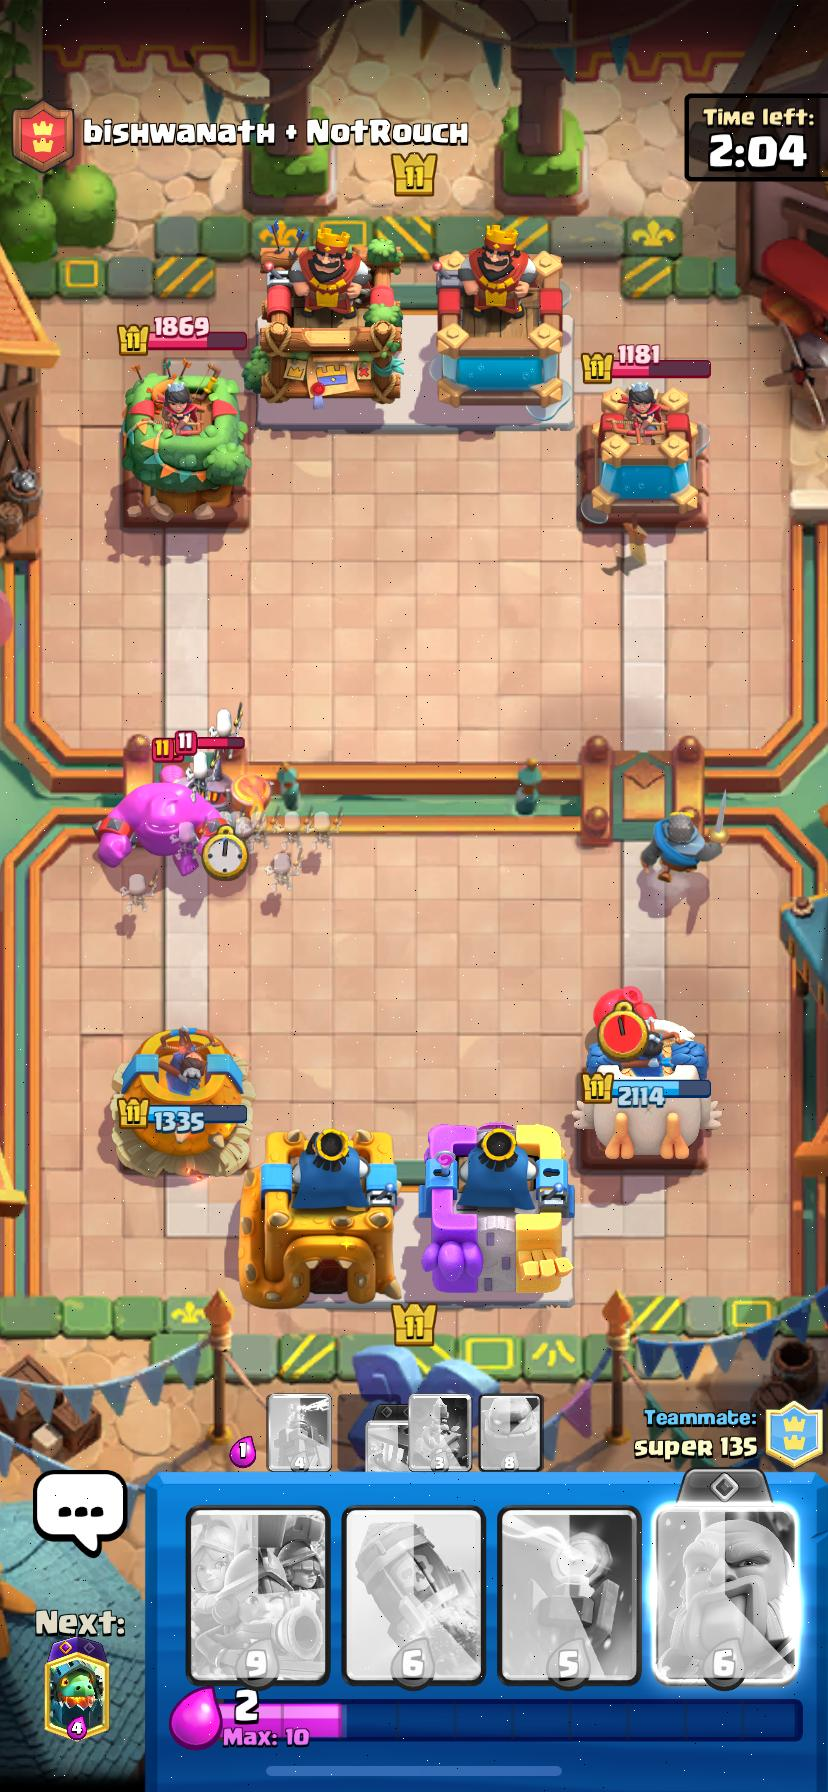EElixerGolem: (98, 763, 225, 875)
EFurnace: (205, 758, 274, 813)
EKingTower: (258, 226, 403, 402), (431, 224, 563, 407)
EnemyPrincessTower: (124, 367, 250, 521), (581, 387, 709, 526)
OKnight: (642, 808, 720, 881)
OLarry: (120, 869, 158, 917), (306, 805, 340, 850), (266, 848, 301, 891), (266, 810, 306, 843), (186, 749, 210, 793), (212, 702, 241, 736)
OwnKingTower: (240, 1127, 401, 1306), (419, 1123, 573, 1301)
OwnPrincessTower: (575, 1003, 711, 1162), (113, 1029, 253, 1175)
